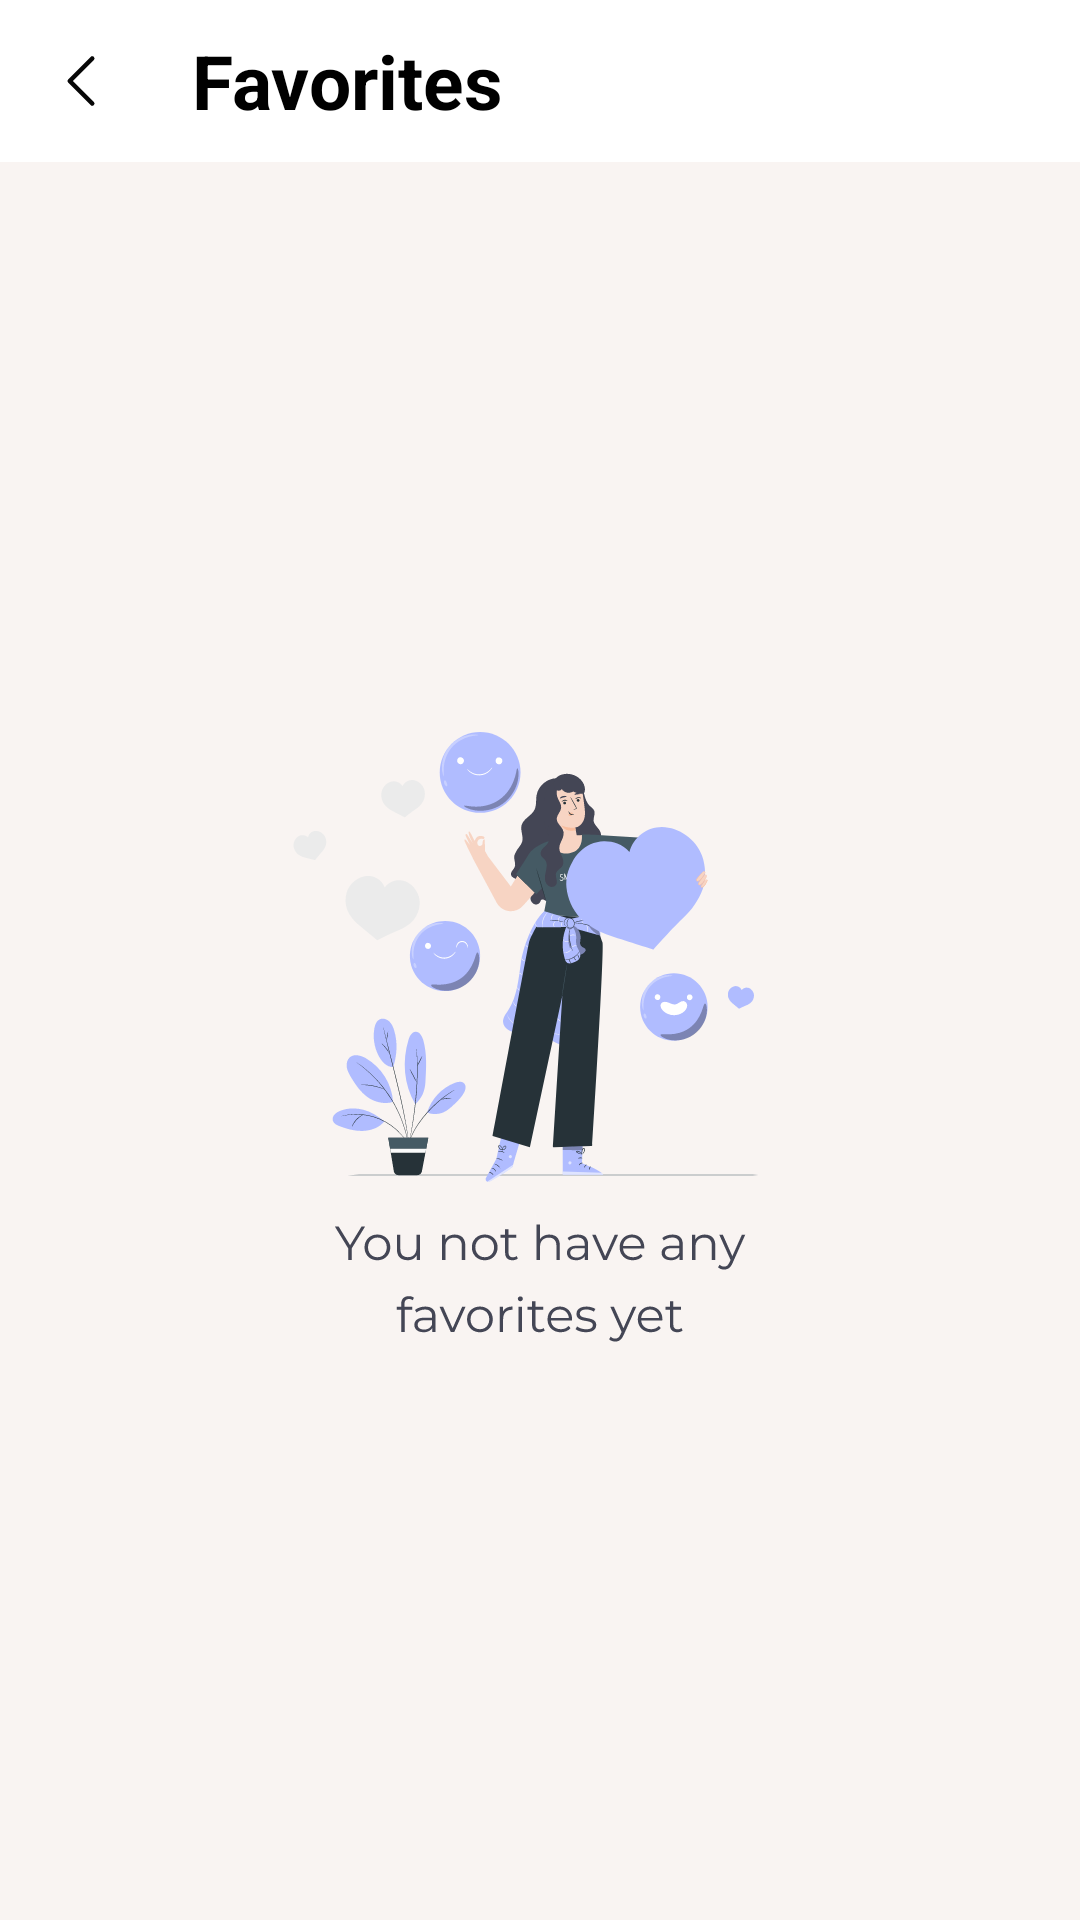

Screen size 1080 × 1920. Icon name, then its box in pixels as (x1, y1, x2, y2):
back: (67, 56, 95, 106)
